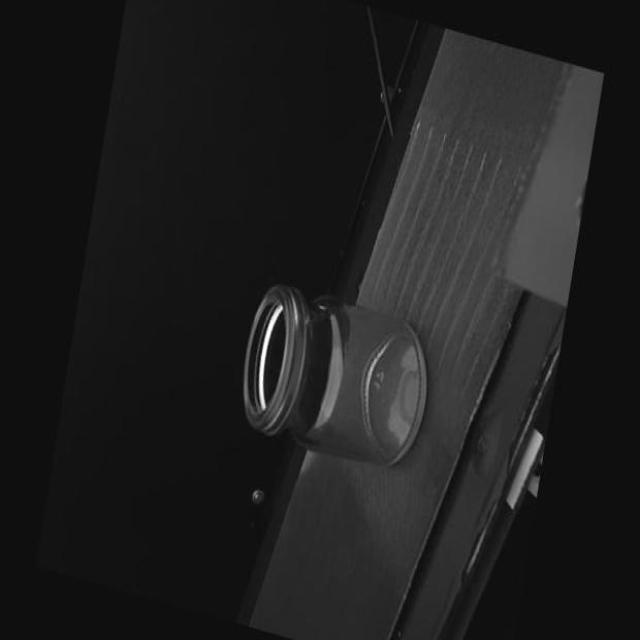defect: (317, 302, 327, 310)
glass: (229, 274, 441, 481)
